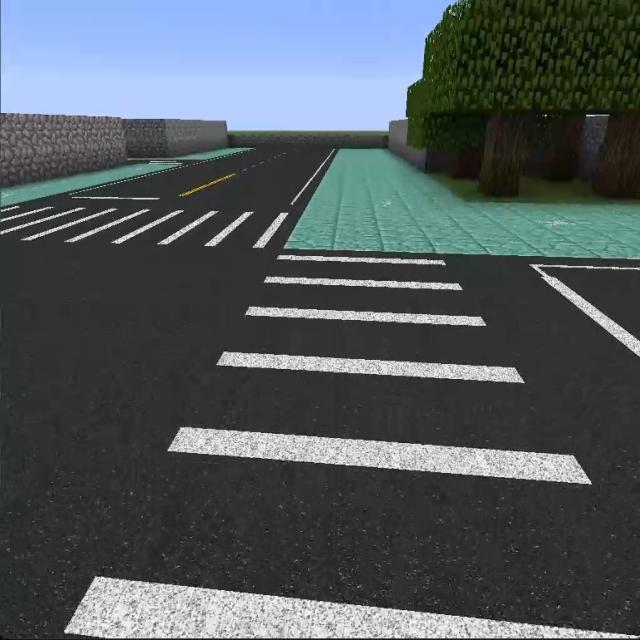crosswalk: (60, 255, 639, 631), (0, 204, 298, 262)
road: (10, 251, 253, 624), (482, 261, 631, 539), (69, 143, 341, 209)
sidewalk: (285, 149, 639, 258), (0, 163, 177, 207), (173, 147, 223, 160)
